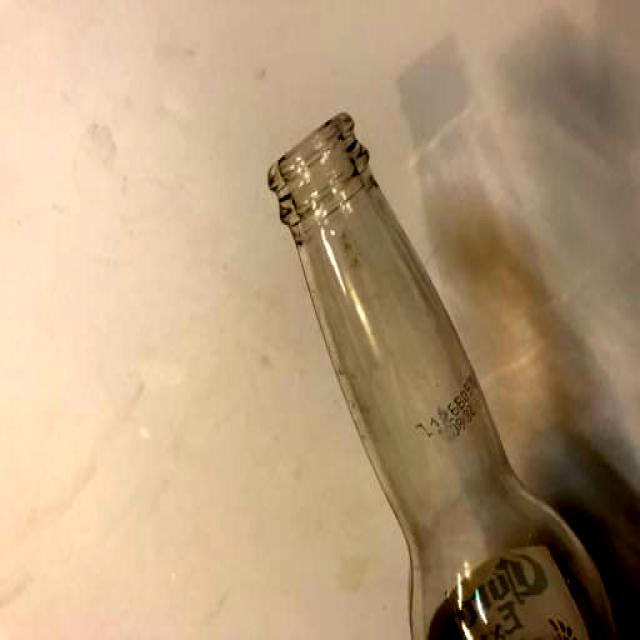Glass: (248, 89, 636, 640)
